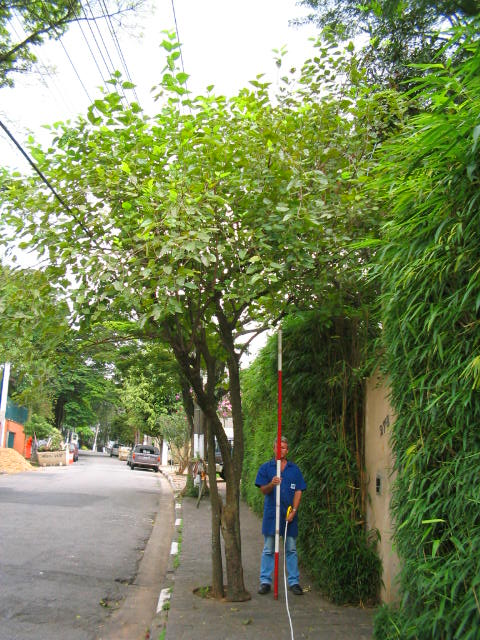crown: (4, 24, 390, 379)
stem: (200, 460, 260, 601)
stick: (270, 330, 289, 599)
tree: (2, 24, 391, 602)
